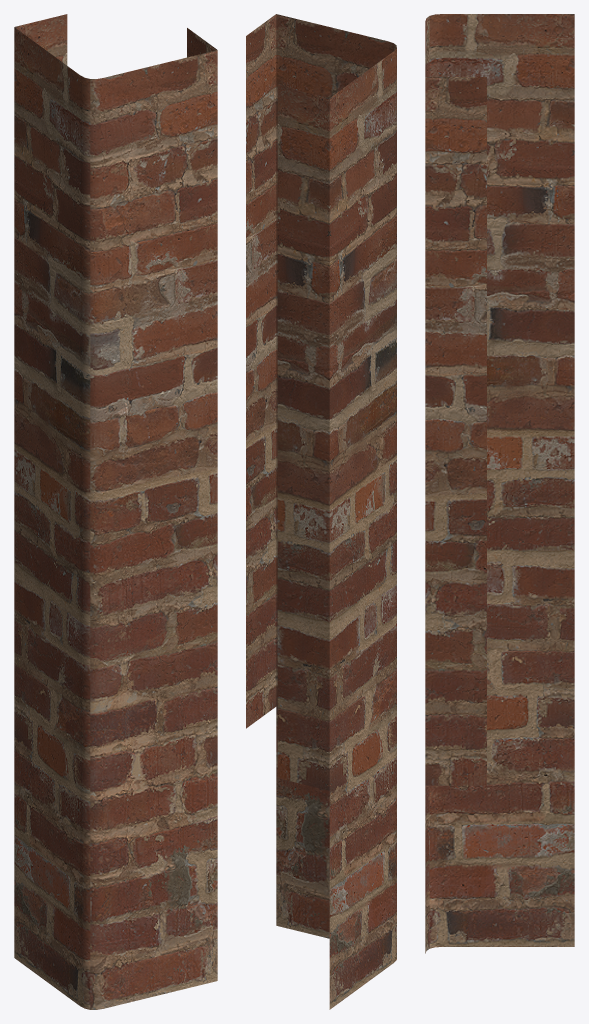
Rendered from SM_Wall_Top_Corner.fbx.
The picture shows the model from 3 angles, left to right: view 1: azimuth 30°, elevation 25°; view 2: azimuth 150°, elevation 25°; view 3: azimuth 270°, elevation 25°; orthographic projection. The views are drawn at different scales.
Visible parts, largest first — view 1: SM_Wall_Top_Corner; view 2: SM_Wall_Top_Corner; view 3: SM_Wall_Top_Corner.
Part boxes in pixels (box(x1,y1,x2,y2)): SM_Wall_Top_Corner: box(14, 14, 217, 1009); SM_Wall_Top_Corner: box(246, 14, 396, 1009); SM_Wall_Top_Corner: box(425, 14, 574, 953).
Size of the model in its own units: 85.13 by 85.13 by 587.
1 material, 1 textured.
